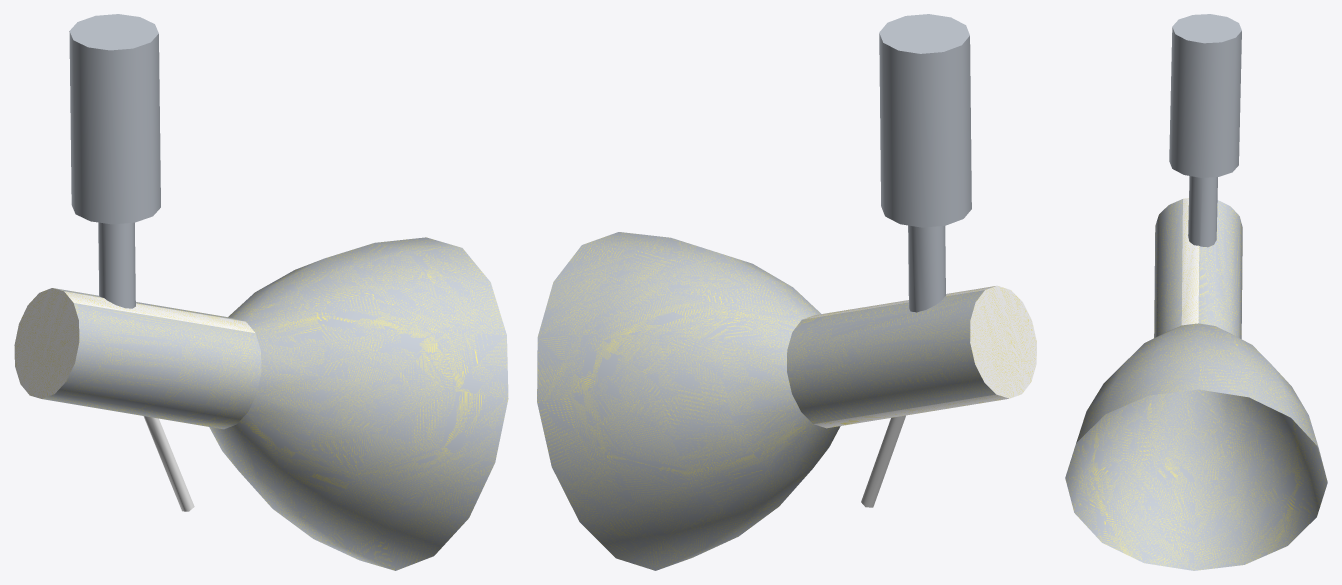
Rendered from light.dae.
3 views of the same model, side by side, from view 1: azimuth 30°, elevation 25°; view 2: azimuth 150°, elevation 25°; view 3: azimuth 270°, elevation 25° (orthographic). The views are drawn at different scales.
Visible parts, largest first — view 1: SketchUp (×5); view 2: SketchUp (×5); view 3: SketchUp (×4).
Boxes of the visible parts, left/top/right/bottom form: SketchUp (×5): left=14, top=14, right=508, bottom=570; SketchUp (×5): left=537, top=14, right=1036, bottom=570; SketchUp (×4): left=1065, top=14, right=1327, bottom=570.
Bounding box in the file's own units: 6.05 × 4.08 × 7.76.
Materials: 3 (2 with a texture image).
